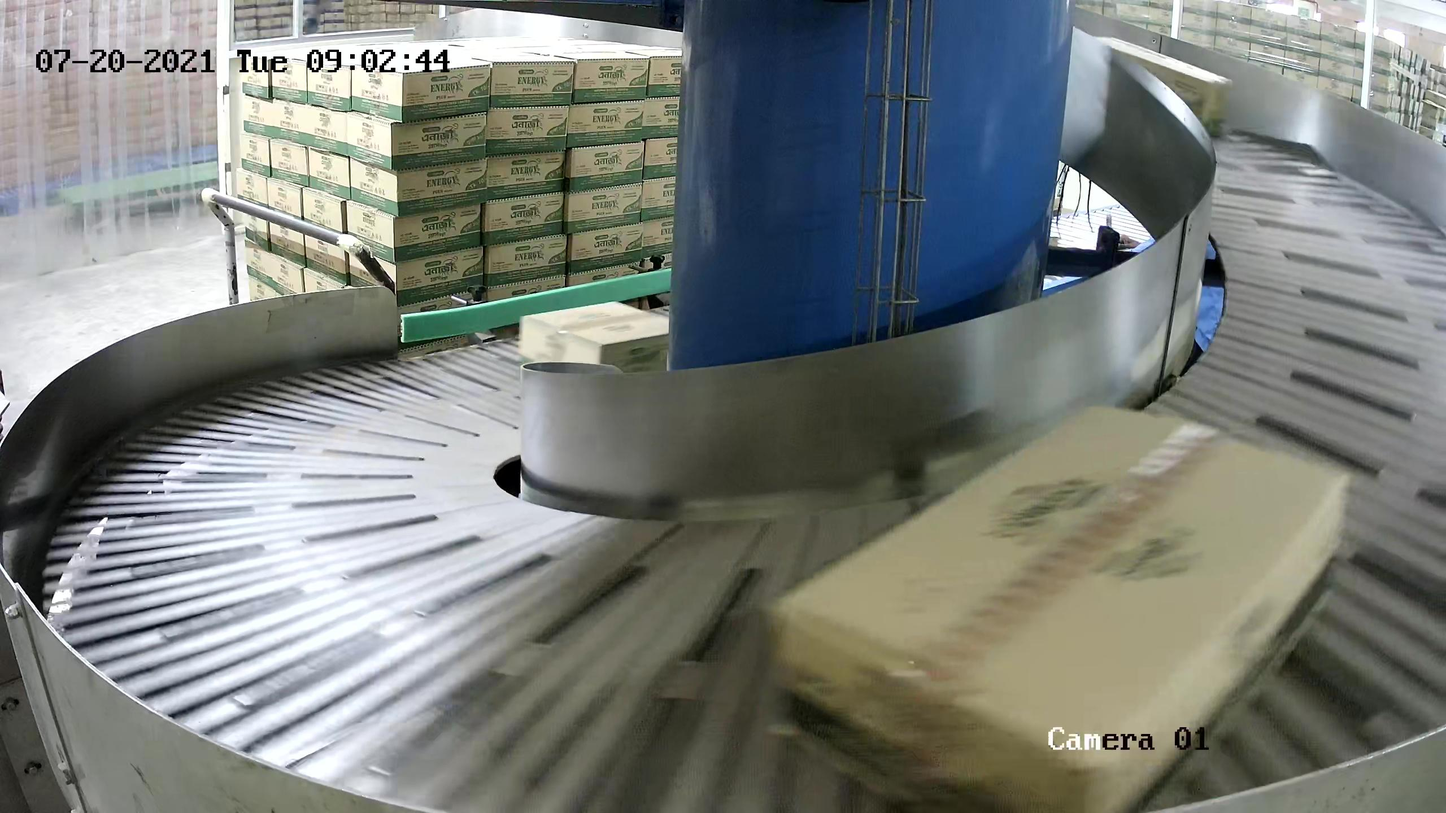Box: (766, 399, 1354, 813), (517, 300, 688, 400), (1079, 36, 1233, 141)
